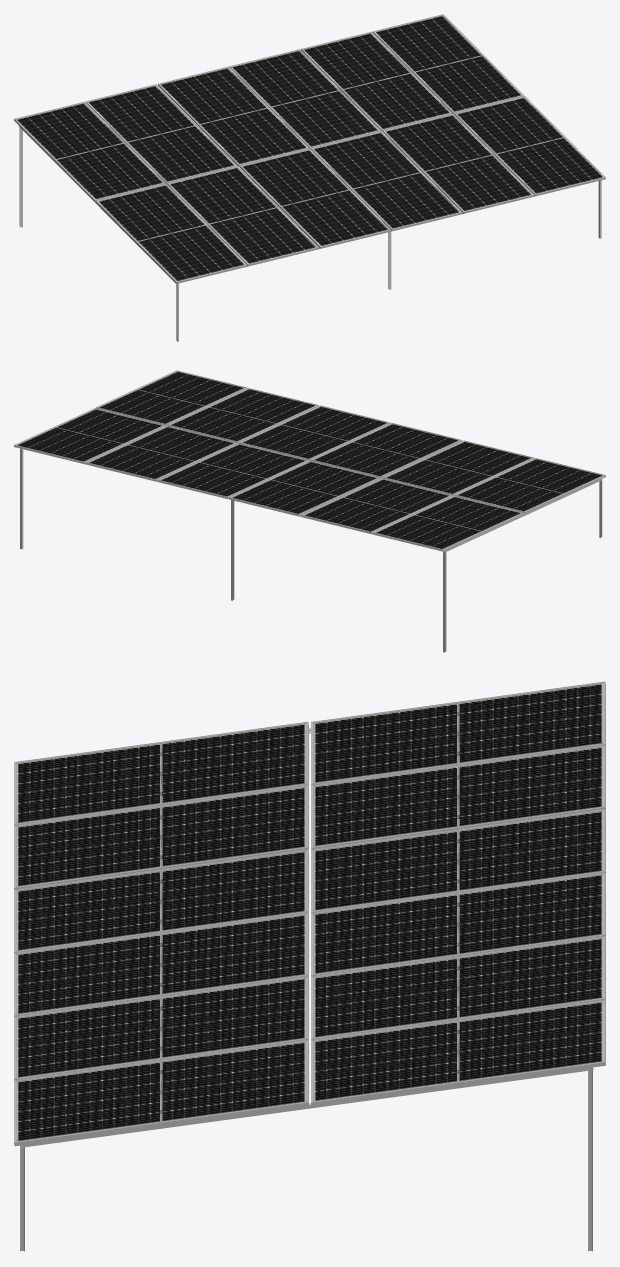
3 views of the same model, one above another, from view 1: azimuth 30°, elevation 25°; view 2: azimuth 150°, elevation 25°; view 3: azimuth 270°, elevation 25° (orthographic). The views are drawn at different scales.
Visible parts, largest first — view 1: 6KW SOLARPANEL; view 2: 6KW SOLARPANEL; view 3: 6KW SOLARPANEL.
Part boxes in pixels (x1,y1,x2,y2): 6KW SOLARPANEL: (14,14,605,341); 6KW SOLARPANEL: (14,370,605,652); 6KW SOLARPANEL: (14,681,605,1252).
Bounding box in the file's own units: 6.9 × 1.63 × 4.53.
1 material, 1 textured.
